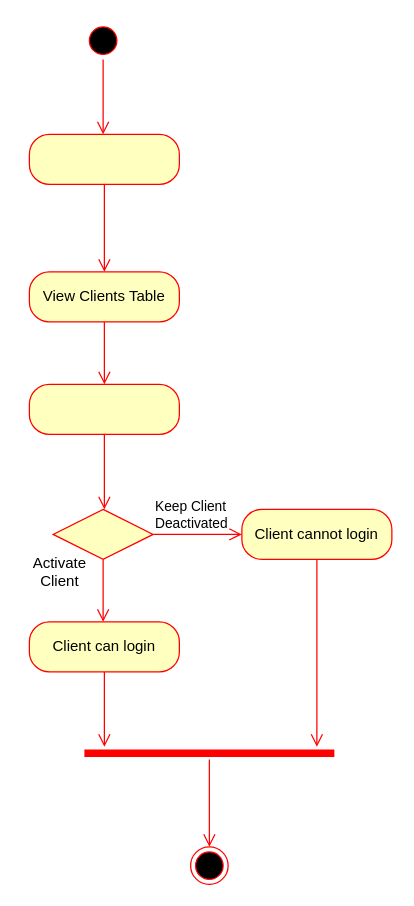
The diagram is 414 pixels wide and 906 high, and some of its shapes have lost their labels. The centre of each missing label's shape, as x and y in pixels:
Go to Dashboard/ Clients: the point at 103,158
Select a Client to deactivate his/ her account: the point at 103,408
